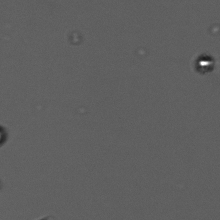Living Cell: (199, 57, 212, 71)
